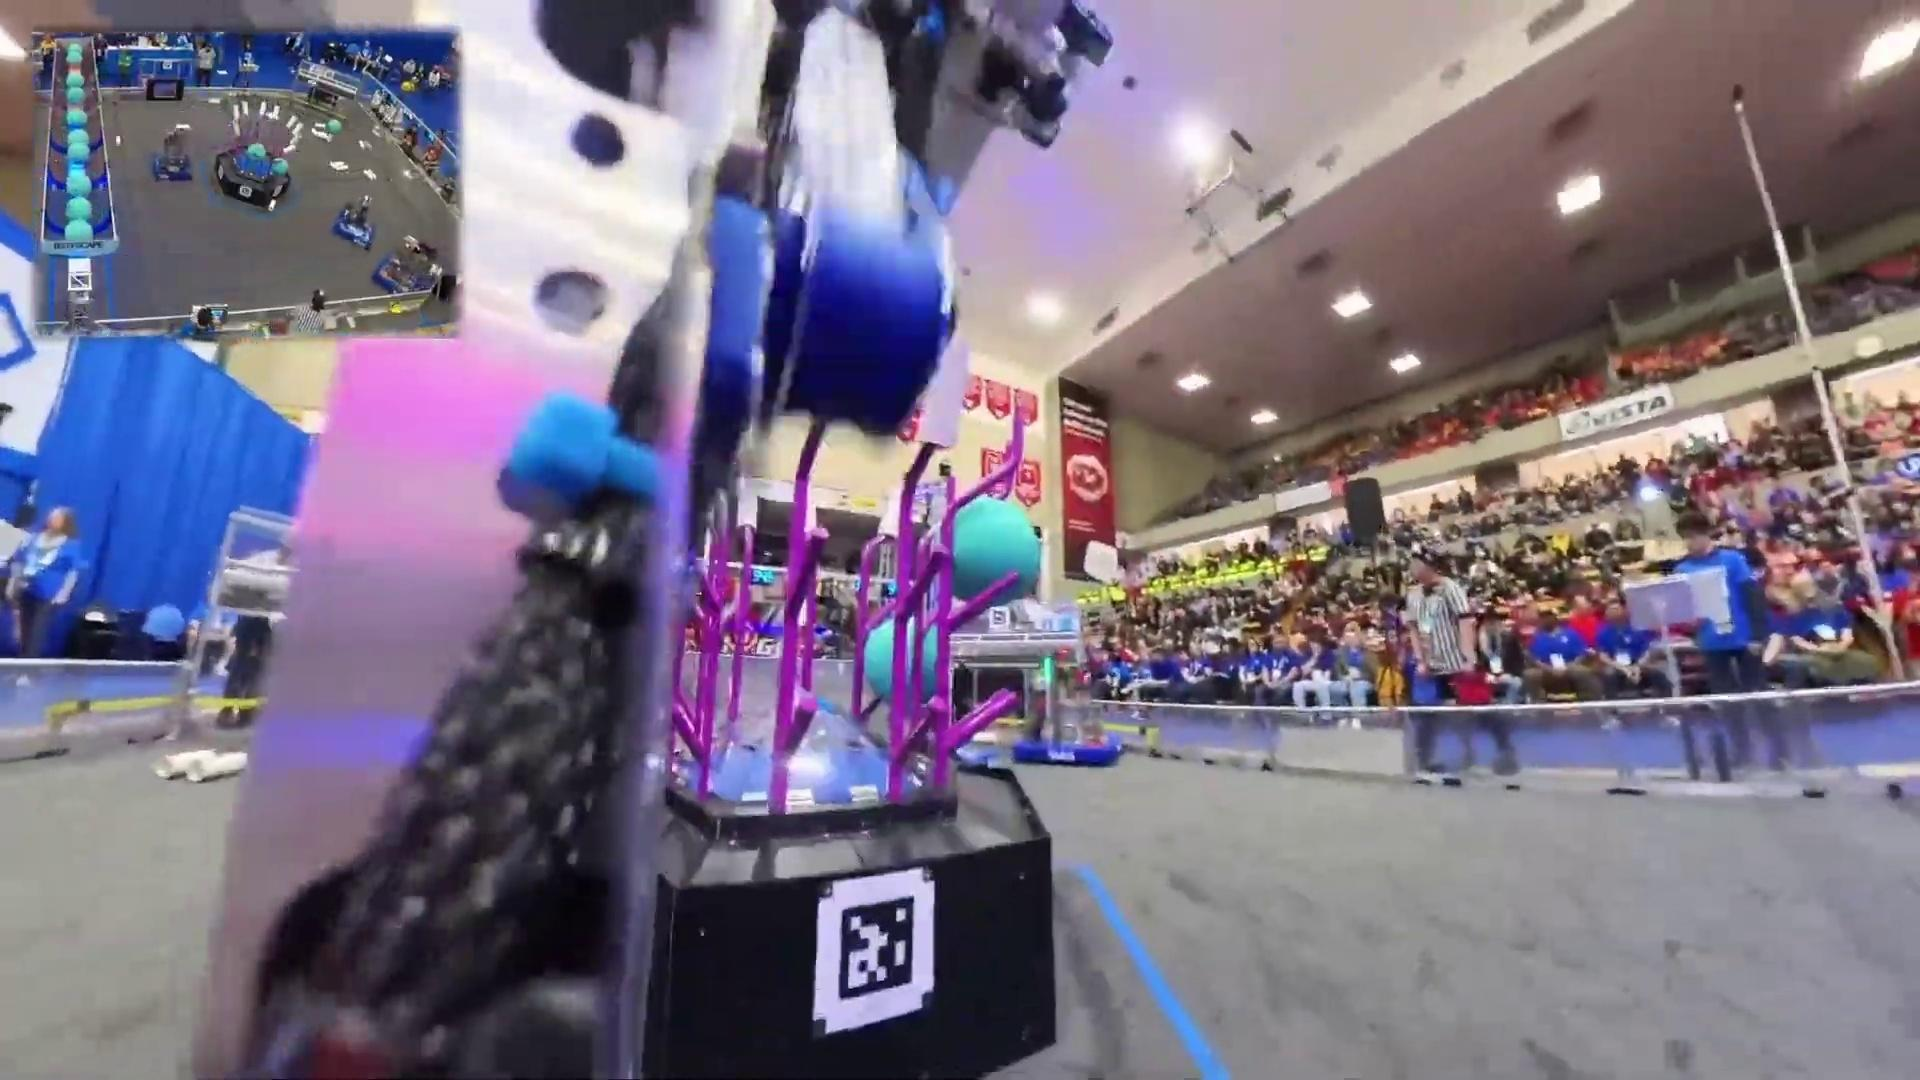robot: (1014, 650, 1125, 767), (369, 231, 438, 295), (332, 193, 380, 253), (152, 120, 195, 182)
